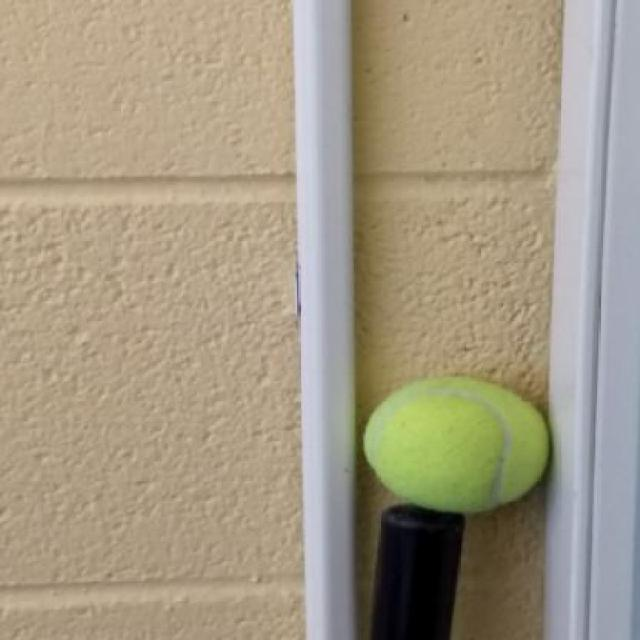Tennis_Ball: (364, 375, 548, 514)
